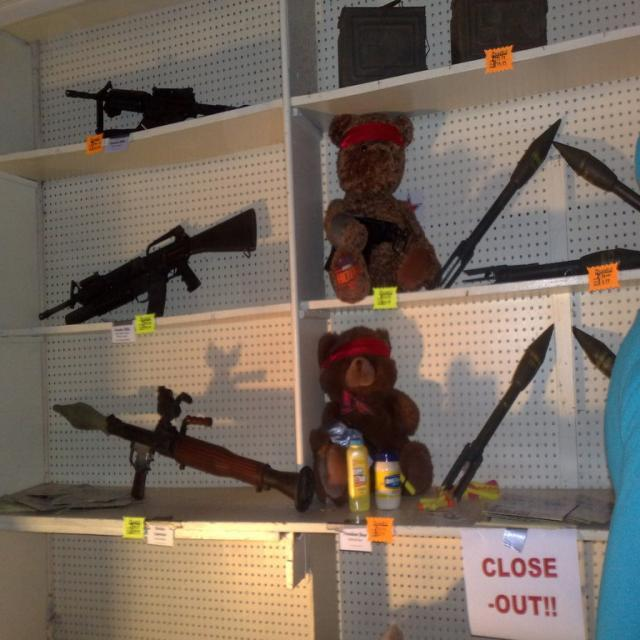weapon: (77, 396, 316, 519), (38, 205, 258, 328), (64, 78, 250, 139)
